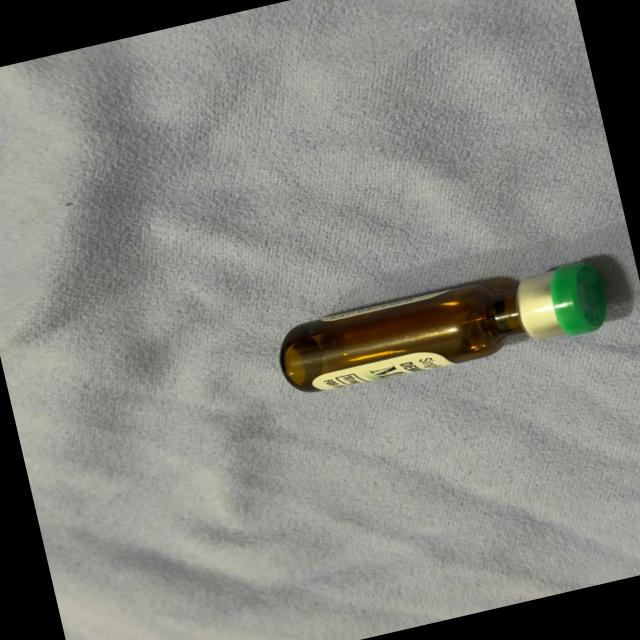midazolm: (278, 255, 606, 399)
